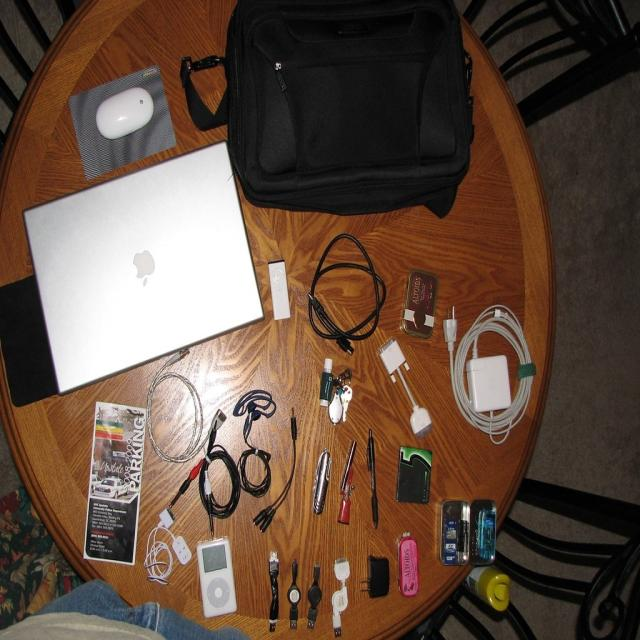Cable: (138, 359, 308, 524), (448, 278, 547, 462), (315, 222, 379, 350)
E-waste: (25, 32, 233, 370), (194, 526, 511, 618)
